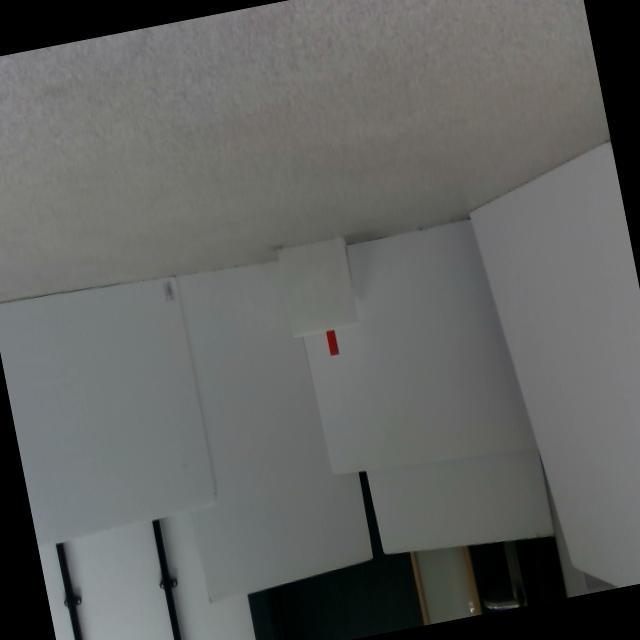red_cylinder: (326, 331, 338, 356)
